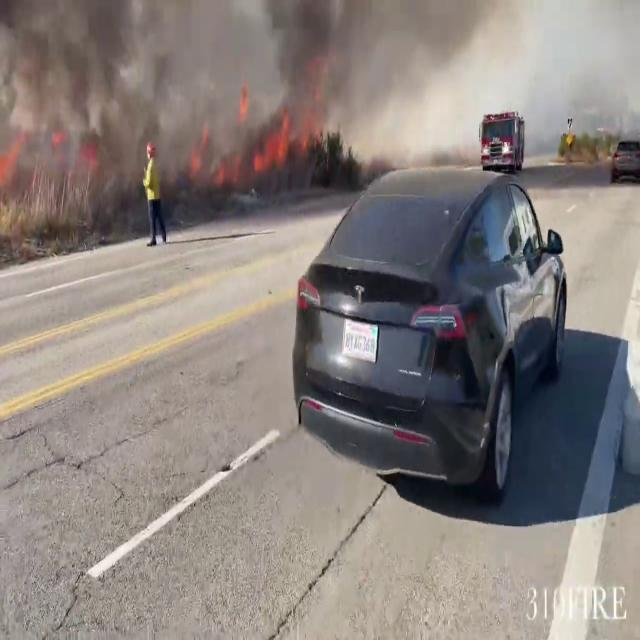Smoke: (0, 0, 632, 174)
